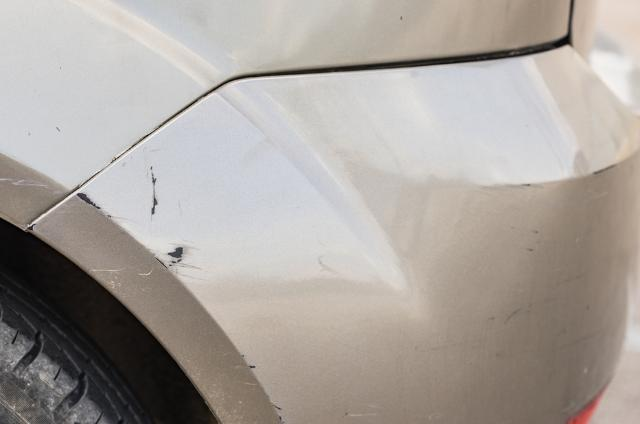Bumper: (20, 47, 640, 424)
Fender: (0, 40, 136, 222)
